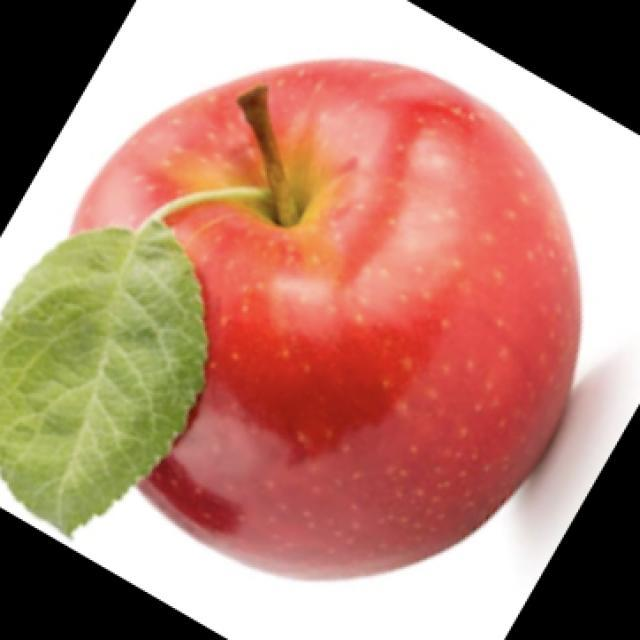Fresh Apple: (55, 51, 584, 579)
